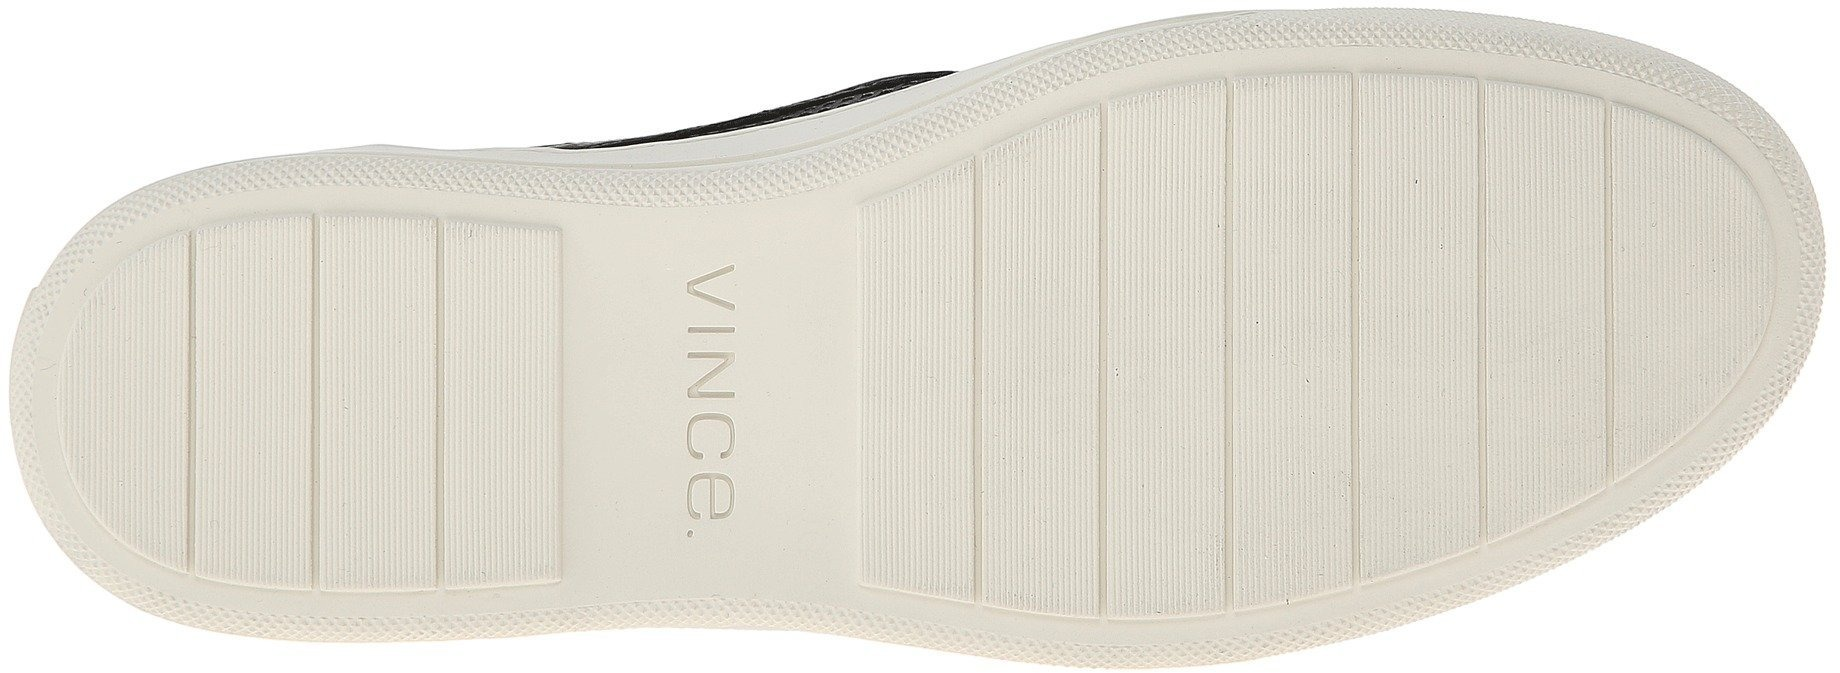line: (924, 217, 1286, 560), (1283, 108, 1589, 423), (217, 259, 512, 548), (1288, 429, 1459, 584), (1117, 100, 1247, 217)
other: (1610, 196, 1752, 347), (60, 336, 180, 458)
quad: (185, 204, 445, 597), (969, 87, 1103, 627), (1349, 76, 1482, 591), (1227, 80, 1353, 613), (1105, 80, 1218, 623), (855, 156, 980, 604), (1484, 83, 1604, 539), (441, 220, 564, 600)
text: (567, 233, 851, 535), (649, 244, 769, 551)
